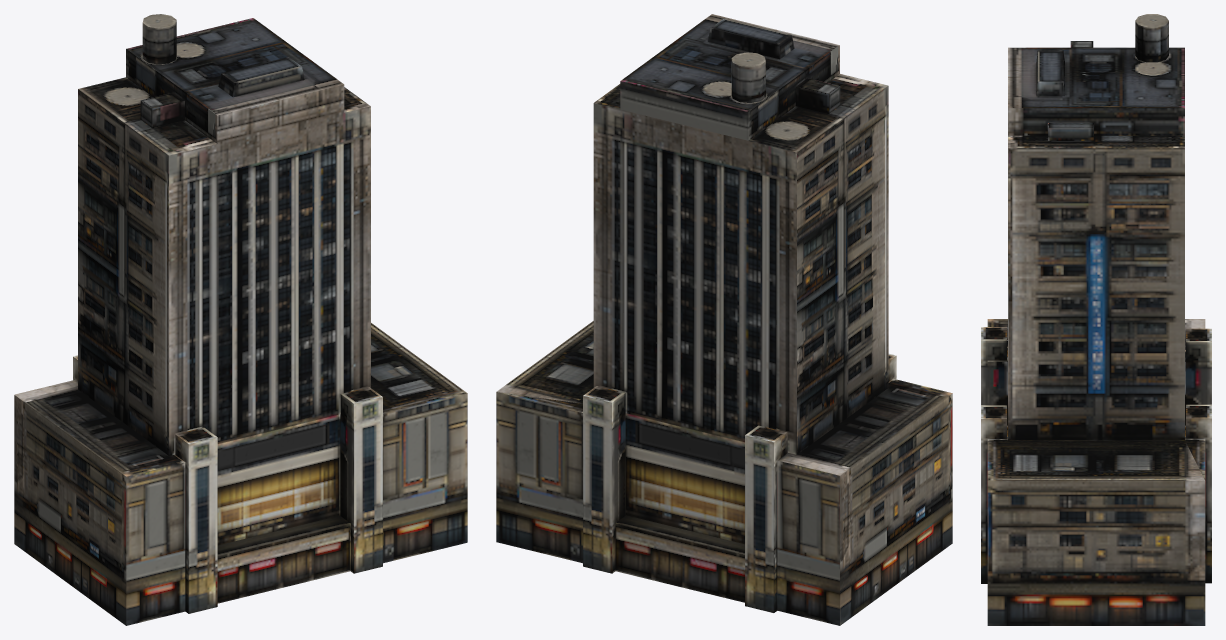
Rendered from CP_Skyscraper_11.fbx.
The picture shows the model from 3 angles, left to right: view 1: azimuth 30°, elevation 25°; view 2: azimuth 150°, elevation 25°; view 3: azimuth 270°, elevation 25°; orthographic projection. The views are drawn at different scales.
Parts seen in each view (by area): view 1: CP_Skyscraper_11; view 2: CP_Skyscraper_11; view 3: CP_Skyscraper_11.
Part boxes in pixels (x1,y1,x2,y2): CP_Skyscraper_11: [14, 14, 467, 625]; CP_Skyscraper_11: [496, 14, 952, 625]; CP_Skyscraper_11: [981, 14, 1211, 625].
Size of the model in its own units: 3171 by 4558 by 1911.
